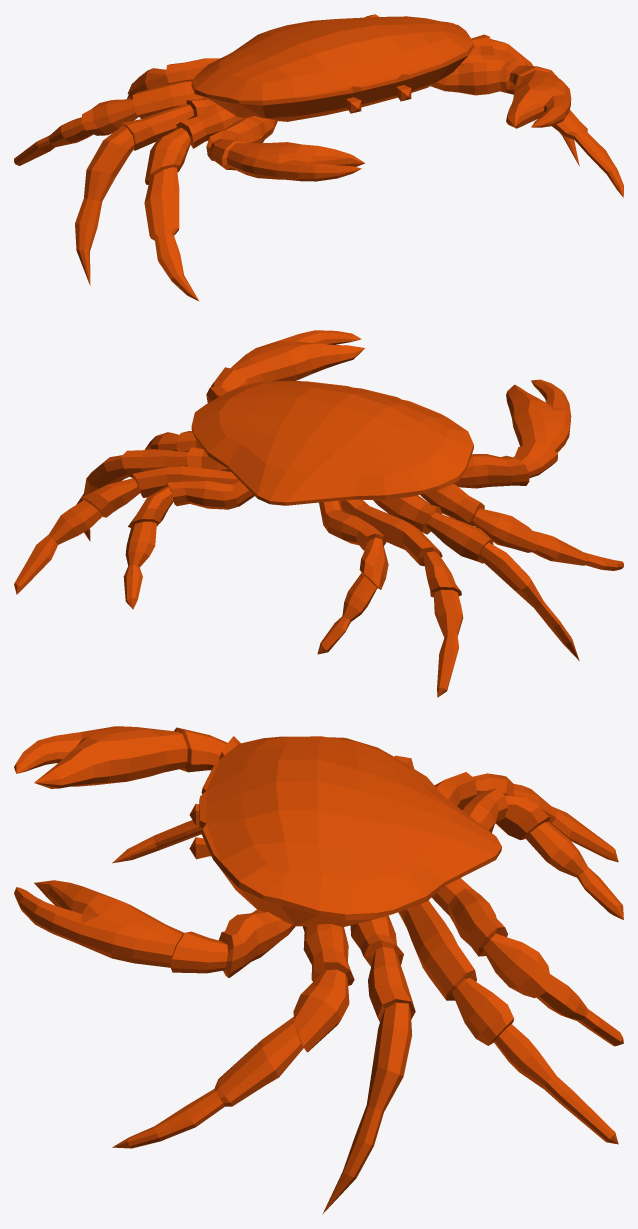
File: Crab.fbx
The picture shows the model from 3 angles, top to bottom: view 1: azimuth 30°, elevation 25°; view 2: azimuth 150°, elevation 25°; view 3: azimuth 270°, elevation 25°; orthographic projection. The views are drawn at different scales.
Visible parts, largest first — view 1: Crab; view 2: Crab; view 3: Crab.
Boxes of the visible parts, x1=… form: Crab: x1=14, y1=14, x2=623, y2=301; Crab: x1=14, y1=330, x2=623, y2=697; Crab: x1=14, y1=726, x2=623, y2=1214.
Bounding box in the file's own units: 437 × 166 × 340.
1 material, 1 textured.
